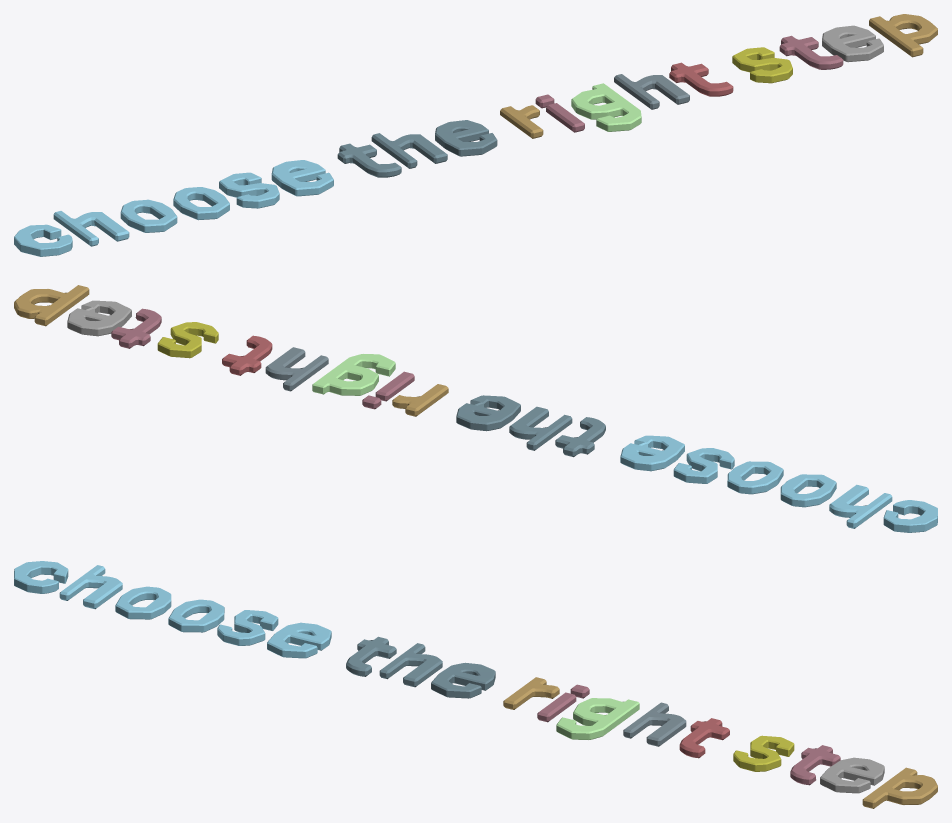
File: words.fbx
The picture shows the model from 3 angles, top to bottom: view 1: azimuth 30°, elevation 25°; view 2: azimuth 150°, elevation 25°; view 3: azimuth 330°, elevation 25°; orthographic projection.
Parts seen in each view (by area): view 1: g, p, e4, e3, e2, s, s1, c, o, h, h1, h2 (+6 smaller); view 2: g, p, e4, e3, e2, s1, s, o1, o, h2, h1, h (+6 smaller); view 3: g, p, e4, e3, e2, s1, s, o1, o, h2, h1, h (+6 smaller).
Boxes of the visible parts, x1,y1,x2,y2 form: g: [571, 83, 641, 131]; p: [869, 14, 937, 57]; e4: [271, 160, 333, 196]; e3: [435, 120, 497, 156]; e2: [822, 25, 883, 62]; s: [219, 172, 279, 208]; s1: [732, 47, 792, 83]; c: [14, 224, 72, 256]; o: [120, 199, 177, 232]; h: [53, 211, 129, 246]; h1: [371, 133, 447, 168]; h2: [614, 74, 689, 109]; g: [312, 354, 395, 395]; p: [14, 285, 89, 326]; e4: [620, 435, 684, 471]; e3: [456, 395, 520, 431]; e2: [67, 300, 131, 336]; s1: [157, 322, 218, 358]; s: [673, 448, 734, 483]; o1: [727, 461, 783, 494]; o: [780, 474, 836, 507]; h2: [265, 347, 328, 391]; h1: [509, 406, 572, 450]; h: [829, 484, 892, 528]; g: [556, 698, 639, 739]; p: [862, 767, 937, 808]; e4: [267, 622, 331, 658]; e3: [431, 662, 495, 698]; e2: [820, 757, 884, 793]; s1: [733, 735, 794, 771]; s: [217, 610, 278, 645]; o1: [168, 599, 224, 632]; o: [115, 586, 171, 619]; h2: [623, 702, 686, 746]; h1: [379, 643, 442, 687]; h: [59, 565, 122, 609].
Bounding box in the file's own units: 114 × 1 × 11.48.
